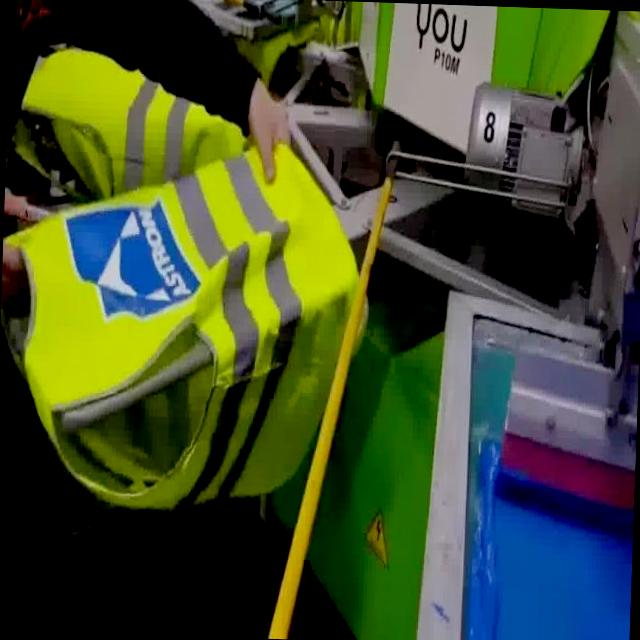vest: (0, 126, 374, 525), (9, 42, 246, 202)
